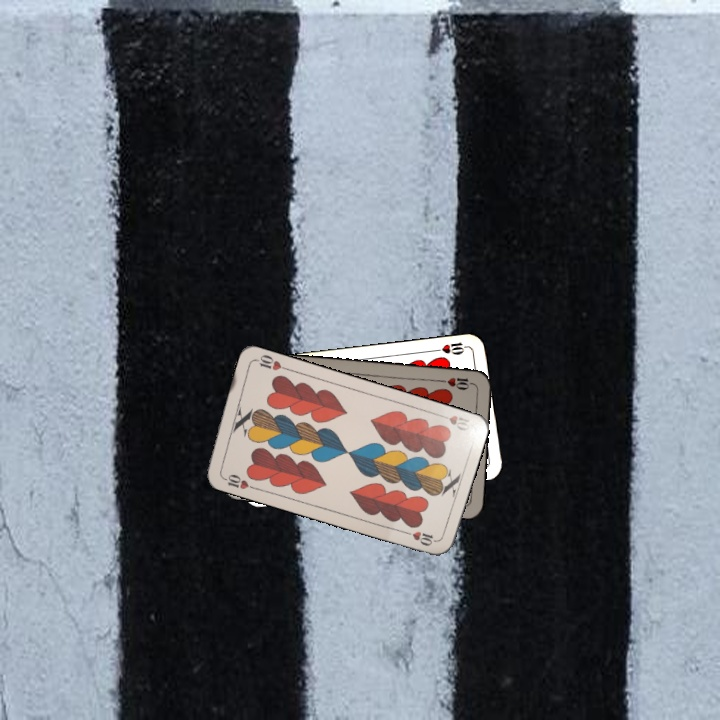H10: (434, 410, 475, 433), (217, 470, 257, 492), (431, 338, 472, 357), (436, 373, 477, 392)
